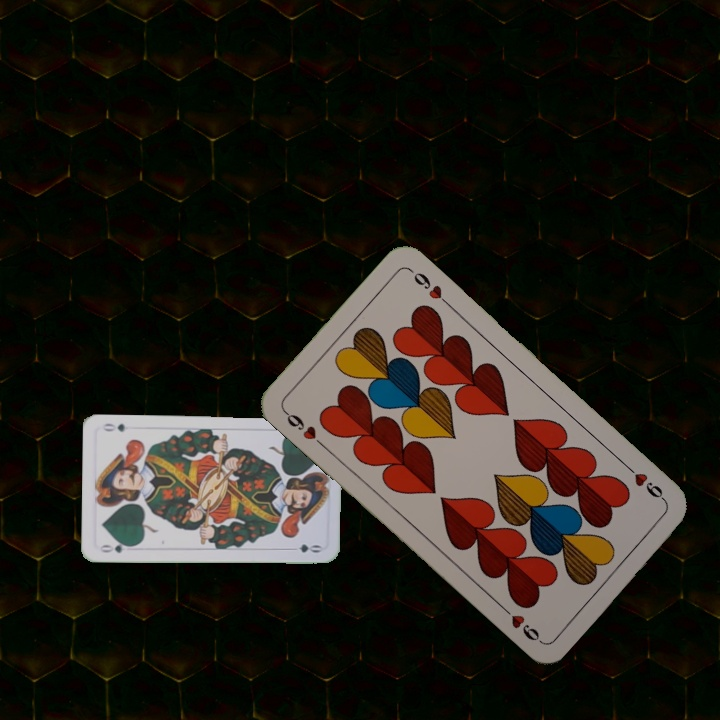GO: (96, 538, 136, 555)
H9: (621, 460, 669, 505), (279, 406, 327, 450)
